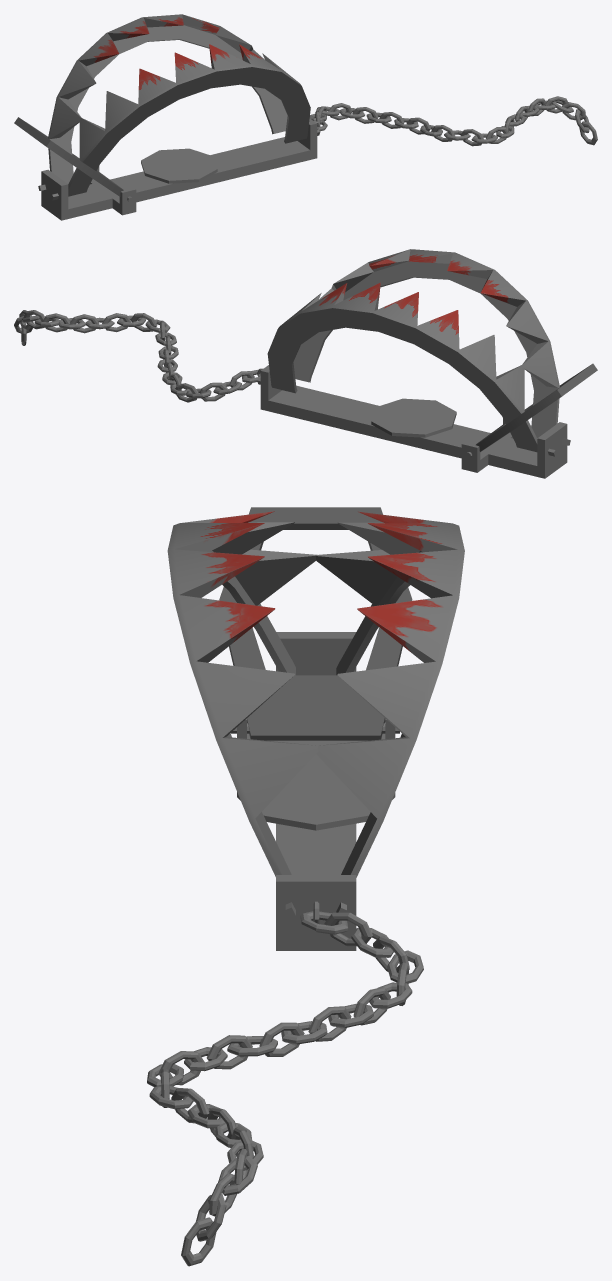
Rendered from fbx_beartrap_animation_closed.fbx.
3 renders of one model, top to bottom at view 1: azimuth 30°, elevation 25°; view 2: azimuth 150°, elevation 25°; view 3: azimuth 270°, elevation 25°, orthographic. The views are drawn at different scales.
Visible parts, largest first — view 1: sawblade_1, mid, sawblade_2, chain, fix; view 2: sawblade_2, mid, sawblade_1, chain, fix; view 3: sawblade_1, sawblade_2, mid, chain, fix.
Boxes of the visible parts, x1=… form: sawblade_1: x1=51, y1=44, x2=320, y2=200; mid: x1=41, y1=118, x2=320, y2=220; sawblade_2: x1=38, y1=14, x2=287, y2=190; chain: x1=309, y1=96, x2=597, y2=146; fix: x1=14, y1=117, x2=123, y2=196; sawblade_2: x1=257, y1=282, x2=556, y2=456; mid: x1=257, y1=365, x2=567, y2=478; sawblade_1: x1=293, y1=249, x2=570, y2=445; chain: x1=14, y1=310, x2=260, y2=402; fix: x1=476, y1=363, x2=597, y2=451; sawblade_1: x1=167, y1=511, x2=318, y2=918; sawblade_2: x1=316, y1=511, x2=464, y2=912; mid: x1=231, y1=632, x2=399, y2=950; chain: x1=147, y1=911, x2=423, y2=1266; fix: x1=219, y1=507, x2=412, y2=740.
Size of the model in its own units: 1.51 by 0.4745 by 0.388.
Materials: 1 (1 with a texture image).
